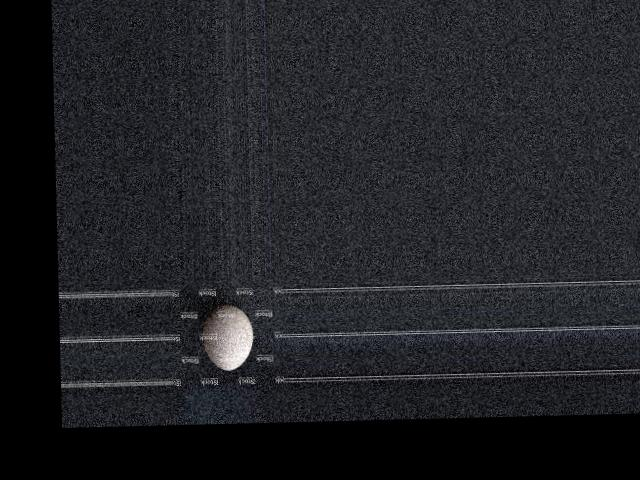egg: (201, 303, 253, 370)
